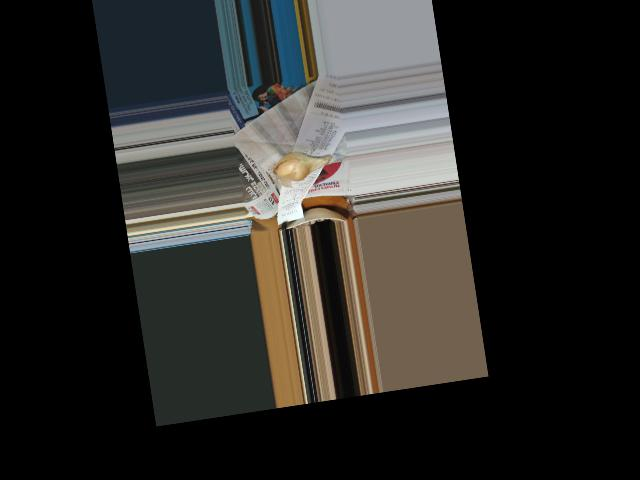onion: (272, 145, 332, 184)
